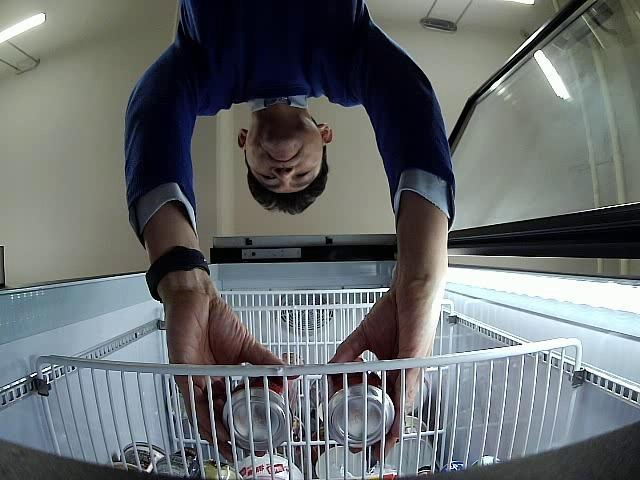11_cocaColaZero: (328, 356, 394, 448), (222, 377, 296, 452)
